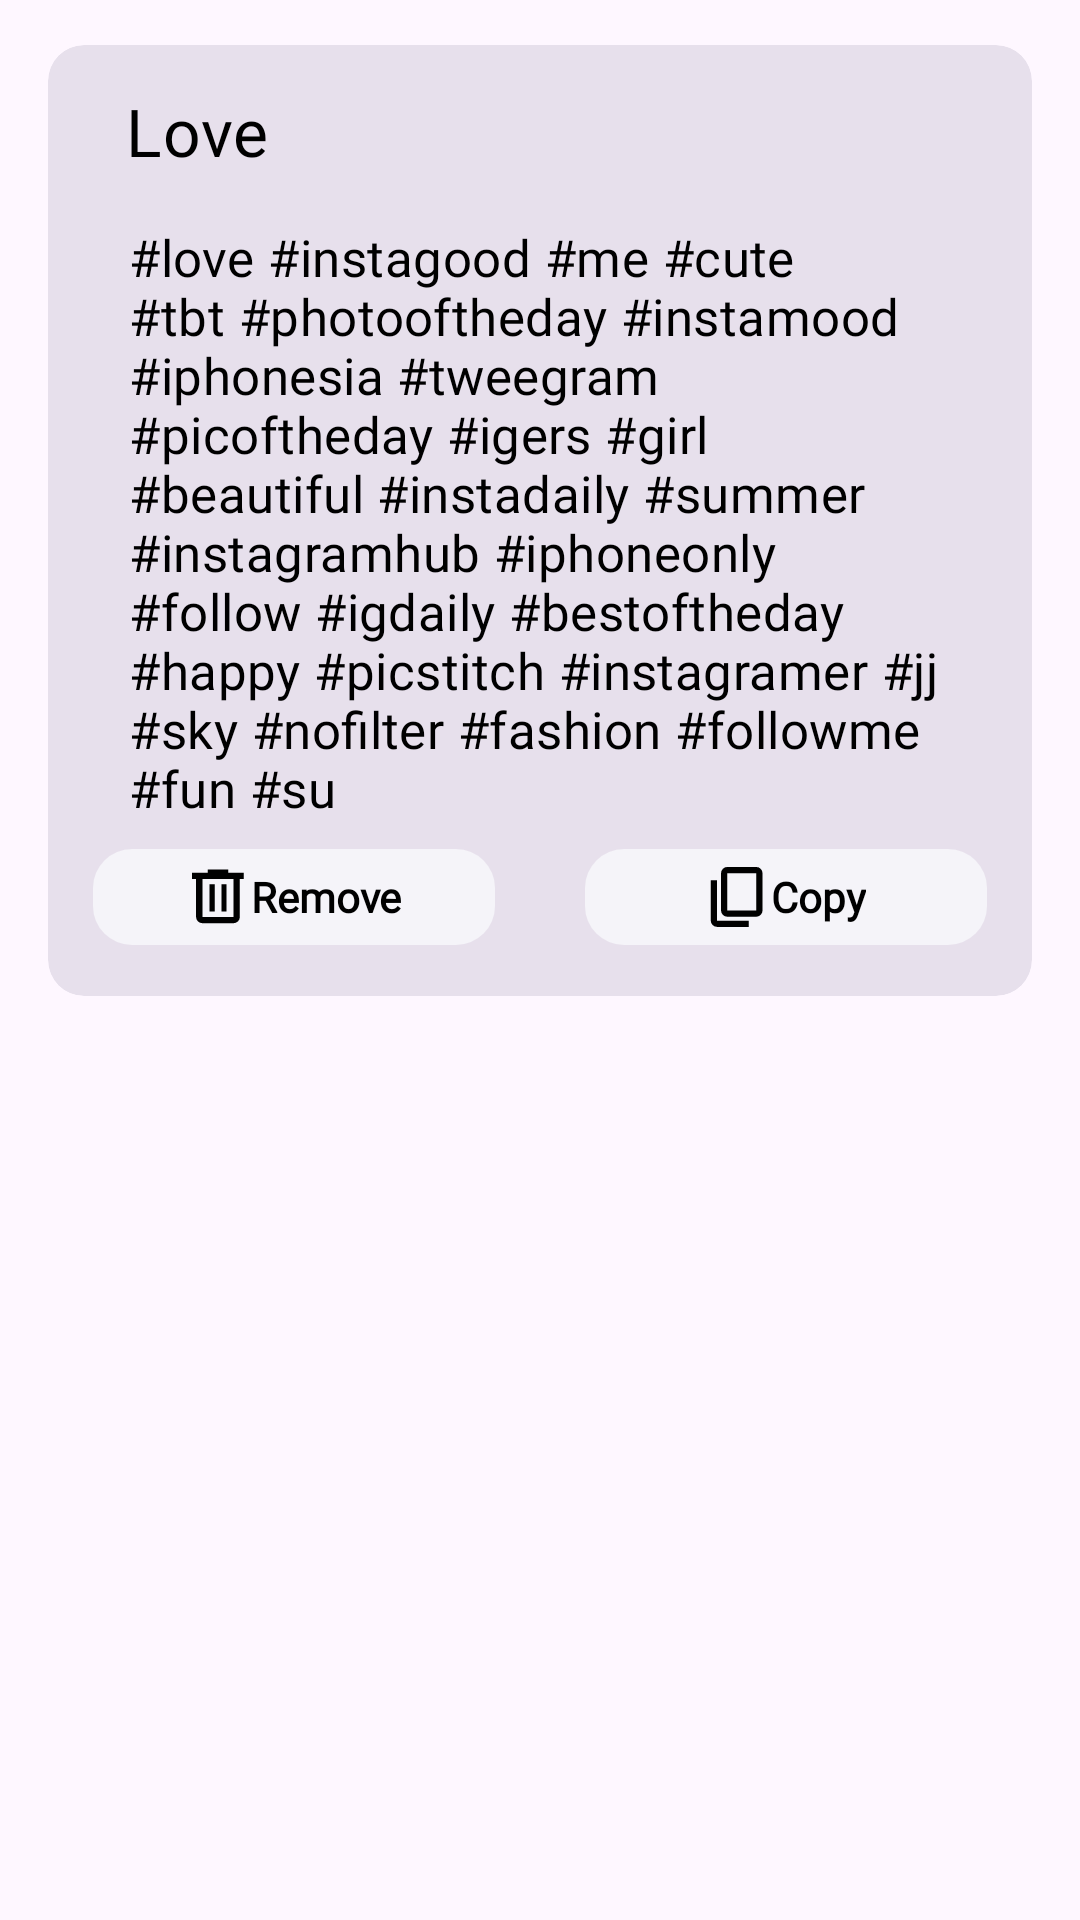

Screen size 1080x1920. Icon name, then its center in pixels as point (x, y):
delete: point (218, 896)
